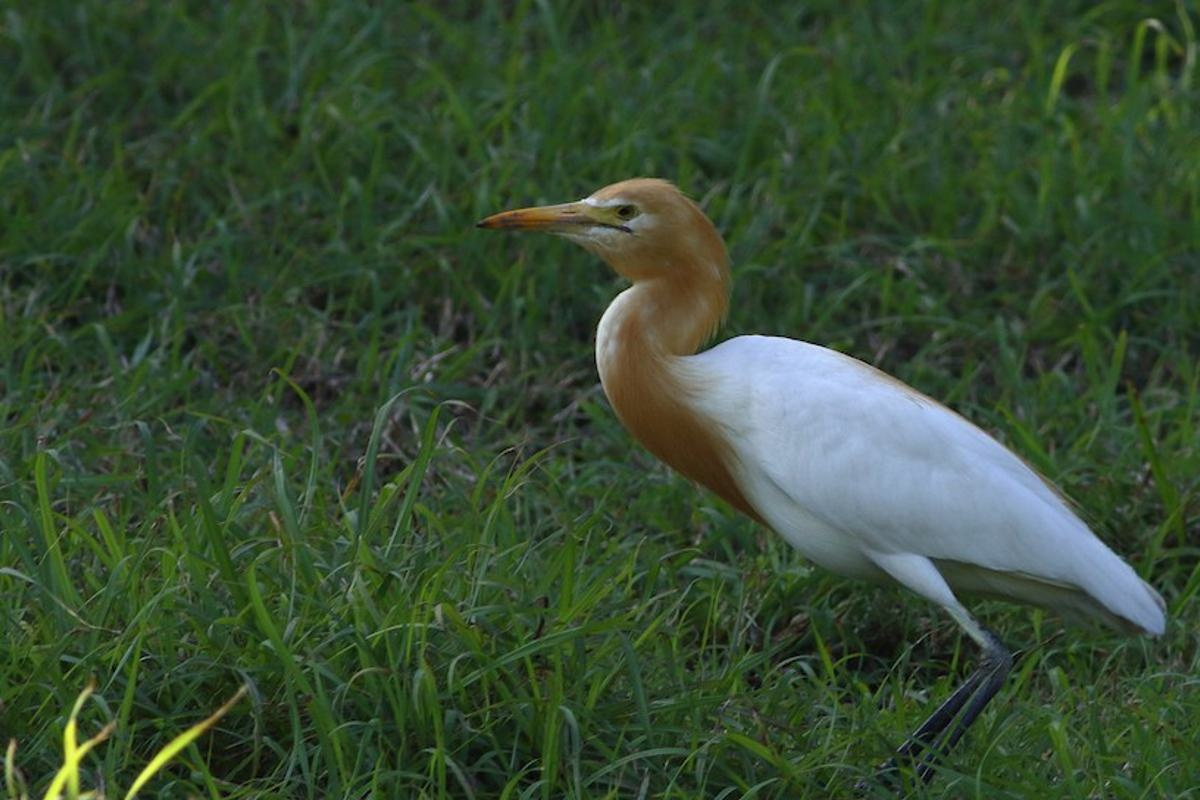egret: (460, 170, 1130, 671)
